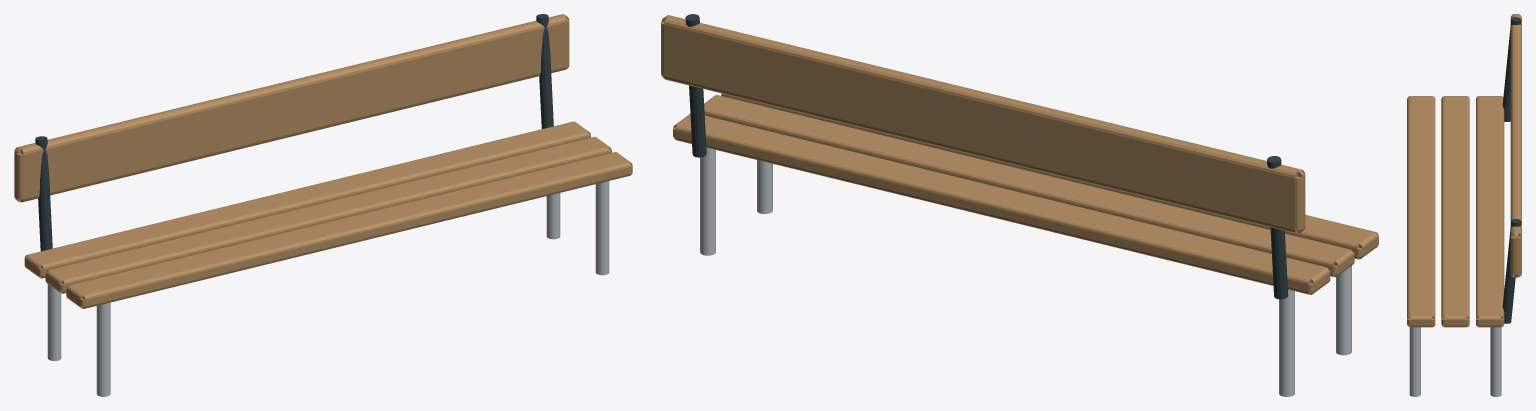
The model's file is basketball-club-and-street-courts-team-bench-d00c4b33__28555.glb.
3 views of the same model, side by side, from view 1: azimuth 30°, elevation 25°; view 2: azimuth 150°, elevation 25°; view 3: azimuth 270°, elevation 25° (orthographic). The views are drawn at different scales.
Visible parts, largest first — view 1: team-bench; view 2: team-bench; view 3: team-bench.
Boxes of the visible parts, x1,y1,x2,y2 form: team-bench: (14,14,632,396); team-bench: (661,14,1378,396); team-bench: (1407,14,1521,396).
Bounding box in the file's own units: 2.6 × 0.9523 × 0.5675.
